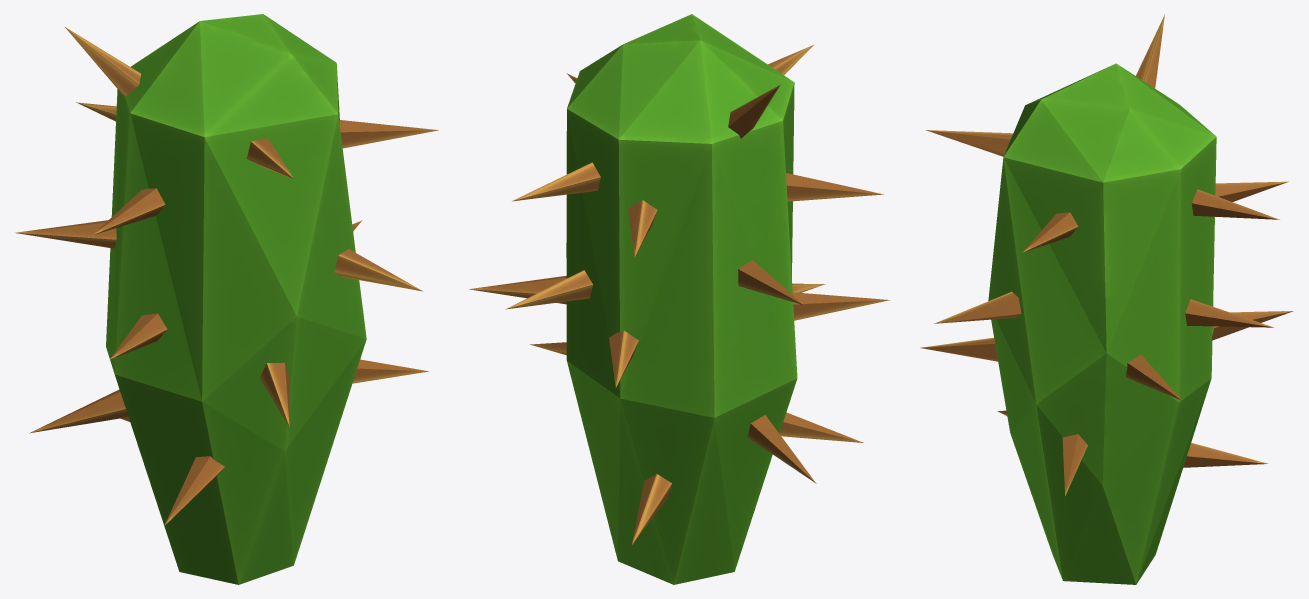
File: Cactus_30.fbx
The picture shows the model from 3 angles, left to right: view 1: azimuth 30°, elevation 25°; view 2: azimuth 150°, elevation 25°; view 3: azimuth 270°, elevation 25°; orthographic projection. The views are drawn at different scales.
Visible parts, largest first — view 1: Cactus_30; view 2: Cactus_30; view 3: Cactus_30.
Boxes of the visible parts, <box> form: Cactus_30: <box>15,14,438,584</box>; Cactus_30: <box>469,14,889,584</box>; Cactus_30: <box>920,14,1293,584</box>.
Bounding box in the file's own units: 21.63 × 31.97 × 22.17.
